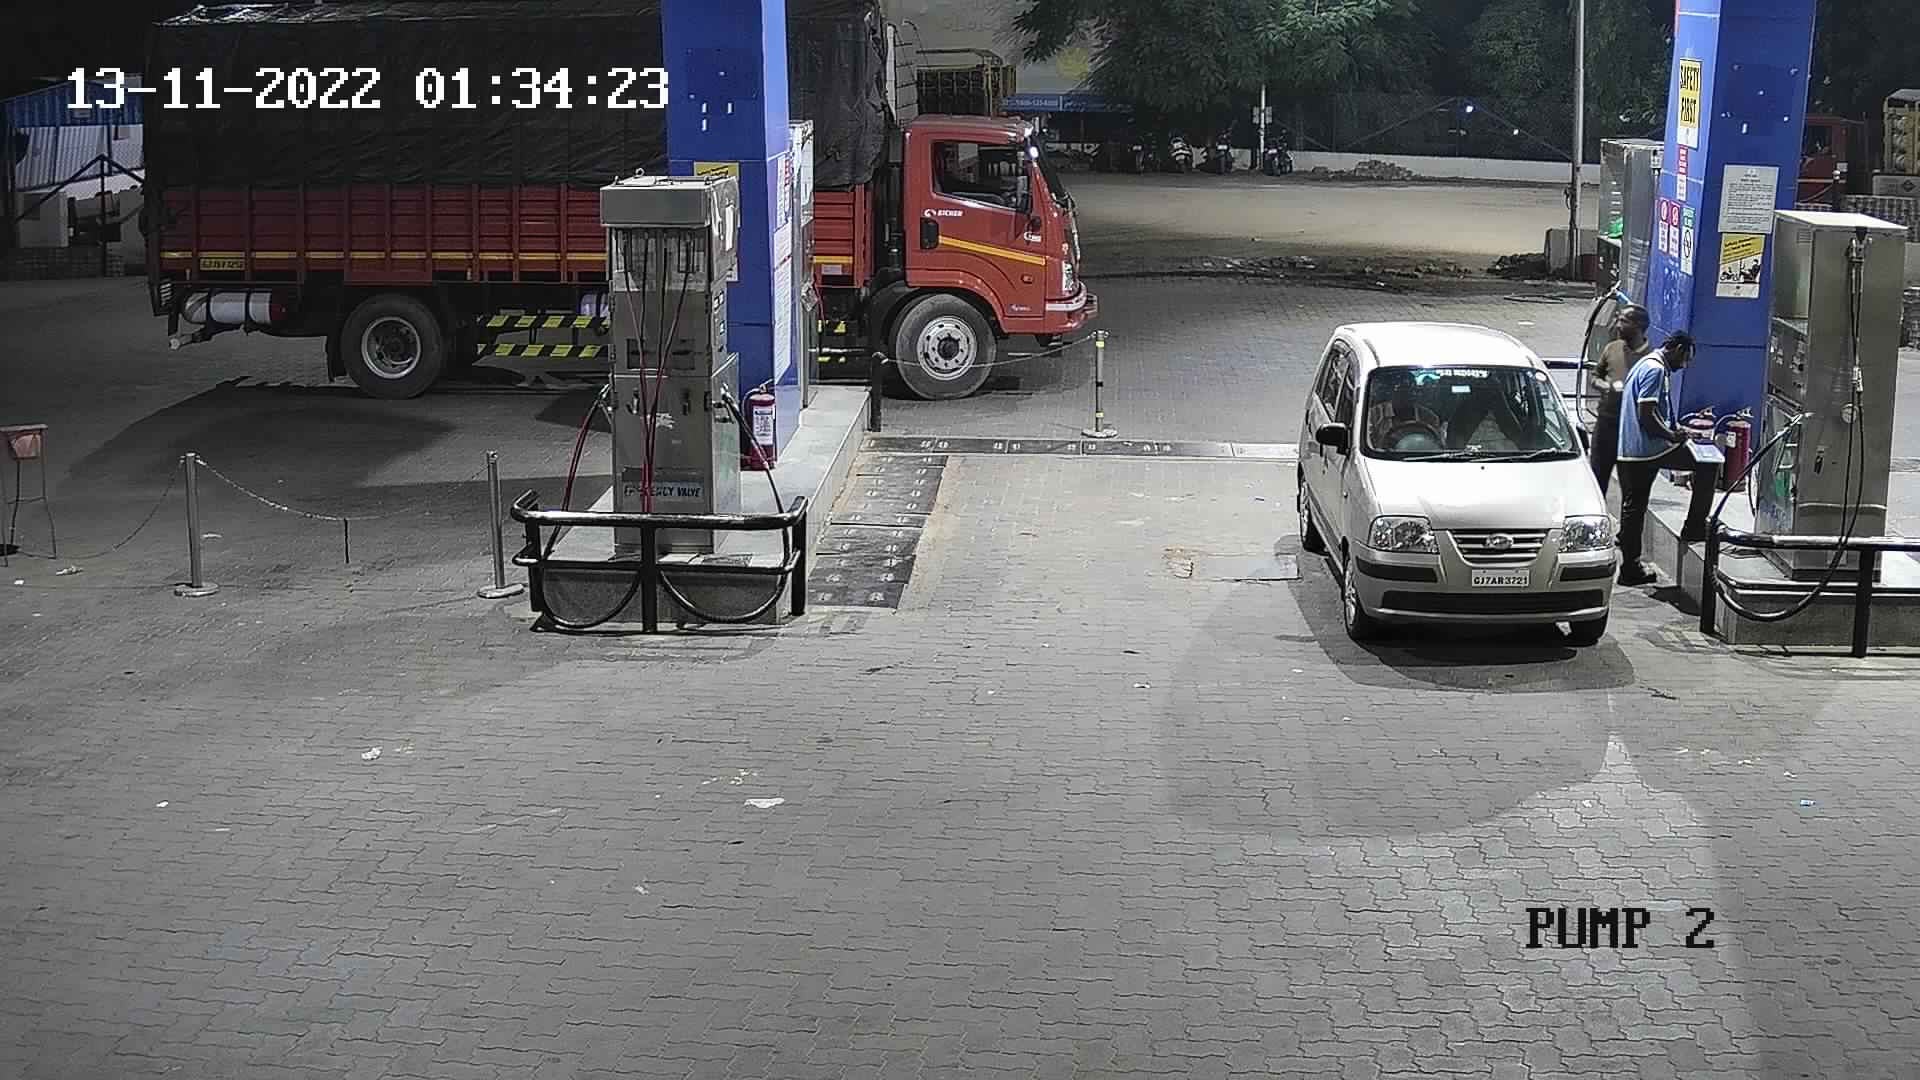Bike: (1109, 113, 1166, 186), (1153, 116, 1203, 181), (1249, 125, 1303, 185), (1203, 120, 1244, 175)
Car: (1276, 313, 1629, 642)
HMV: (121, 0, 676, 405), (902, 34, 1076, 187), (1770, 73, 1917, 219)
Others: (1606, 323, 1731, 587)
